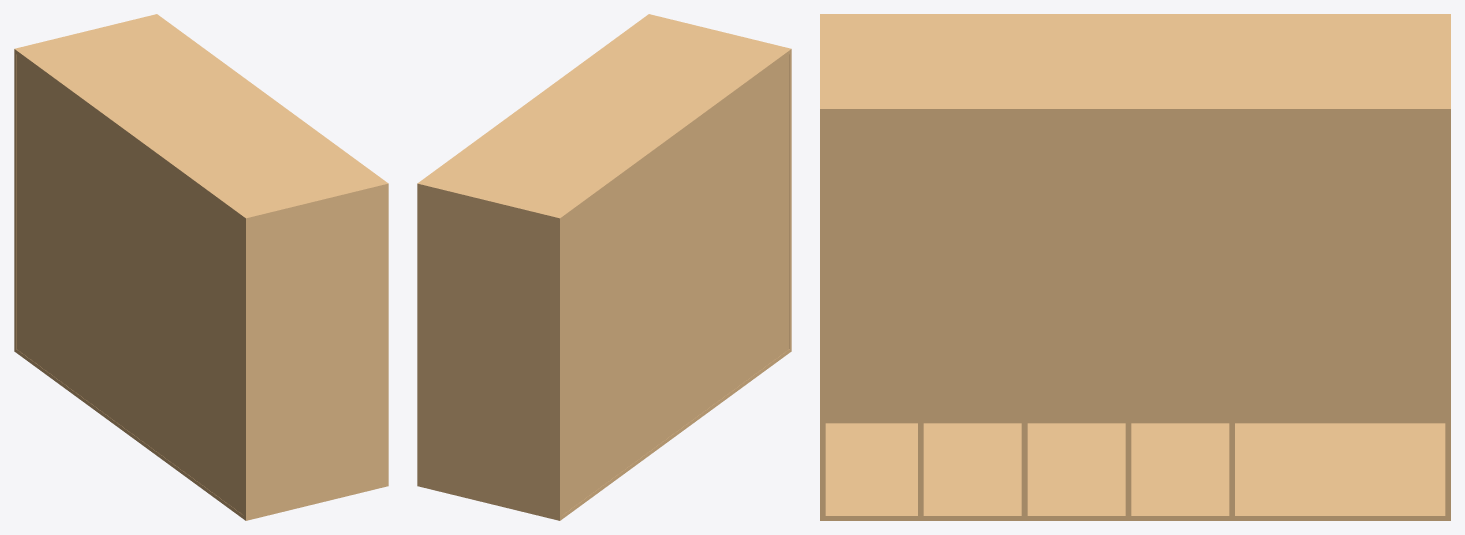
3 views of the same model, side by side, from view 1: azimuth 30°, elevation 25°; view 2: azimuth 150°, elevation 25°; view 3: azimuth 270°, elevation 25° (orthographic). The views are drawn at different scales.
Visible parts, largest first — view 1: ROOT_link (×5); view 2: ROOT_link (×5); view 3: ROOT_link (×9).
Part boxes in pixels (bbox=[...]): ROOT_link (×5): bbox=[14, 14, 388, 520]; ROOT_link (×5): bbox=[417, 14, 791, 520]; ROOT_link (×9): bbox=[820, 14, 1450, 520].
Size of the model in its own units: 0.395 by 0.8 by 1.11.
